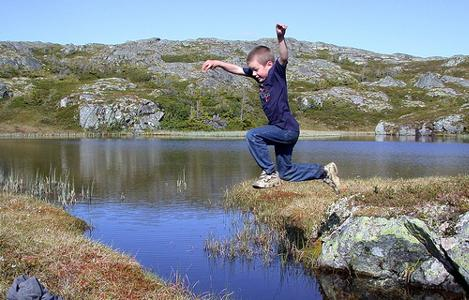person: (203, 23, 343, 200)
